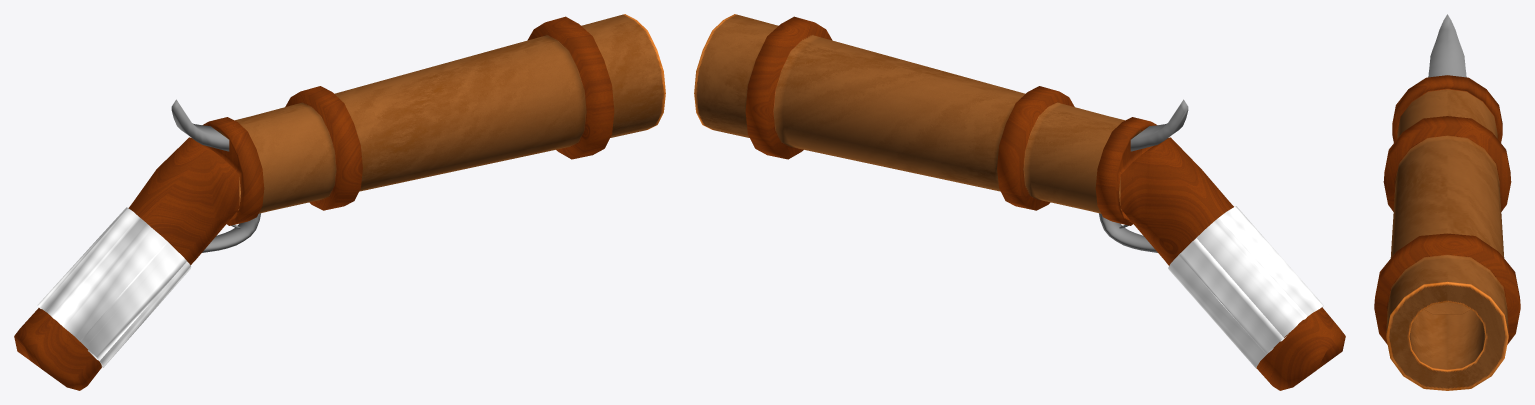
File: Gun.fbx
3 views of the same model, side by side, from view 1: azimuth 30°, elevation 25°; view 2: azimuth 150°, elevation 25°; view 3: azimuth 270°, elevation 25° (orthographic). The views are drawn at different scales.
Visible parts, largest first — view 1: Barrel, Handle, Grip, Trigger; view 2: Barrel, Grip, Handle, Trigger; view 3: Barrel, Trigger.
Boxes of the visible parts, x1,y1,x2,y2 form: Barrel: (202, 14, 665, 252); Handle: (14, 137, 239, 390); Grip: (37, 207, 191, 367); Trigger: (171, 99, 229, 151); Barrel: (694, 14, 1157, 252); Grip: (1168, 206, 1323, 368); Handle: (1120, 137, 1345, 390); Trigger: (1130, 99, 1188, 151); Barrel: (1374, 75, 1520, 390); Trigger: (1428, 14, 1466, 77).
Size of the model in its own units: 71.96 by 29.07 by 14.27.
